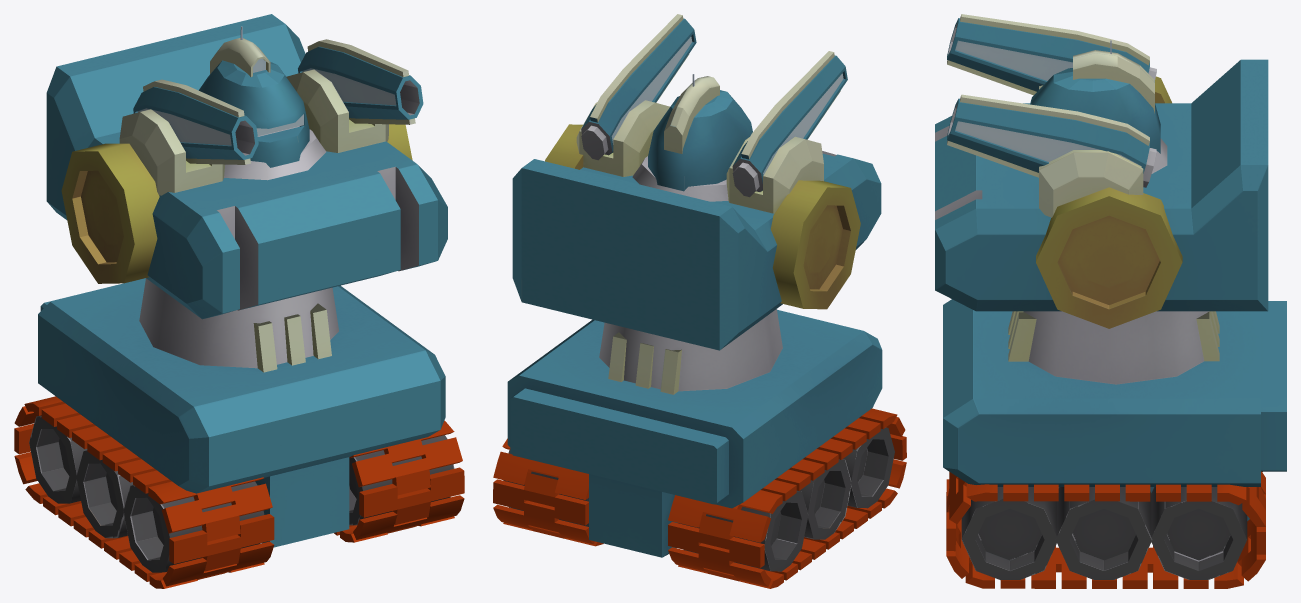
The model's file is player_idle3.obj.
3 renders of one model, left to right at view 1: azimuth 30°, elevation 25°; view 2: azimuth 150°, elevation 25°; view 3: azimuth 270°, elevation 25°, orthographic. The views are drawn at different scales.
Parts seen in each view (by area): view 1: Object004, Box038, Object012, Object011, Box042; view 2: Object004, Box038, Object012, Object011, Box042; view 3: Object004, Object011, Object012, Box042.
Boxes of the visible parts, box(x1,y1,x2,y2) form: Object004: box(38, 14, 447, 547); Box038: box(14, 396, 274, 588); Object012: box(133, 39, 423, 164); Object011: box(29, 415, 454, 572); Box042: box(334, 420, 464, 542); Object004: box(507, 76, 882, 557); Box038: box(668, 408, 906, 588); Object012: box(581, 14, 847, 197); Object011: box(503, 427, 894, 571); Box042: box(493, 438, 603, 546); Object004: box(935, 50, 1286, 520); Object011: box(961, 487, 1247, 579); Object012: box(947, 14, 1156, 187); Box042: box(946, 471, 1265, 588).
Bounding box in the file's own units: 110 × 173 × 115.
3 materials, 1 textured.
